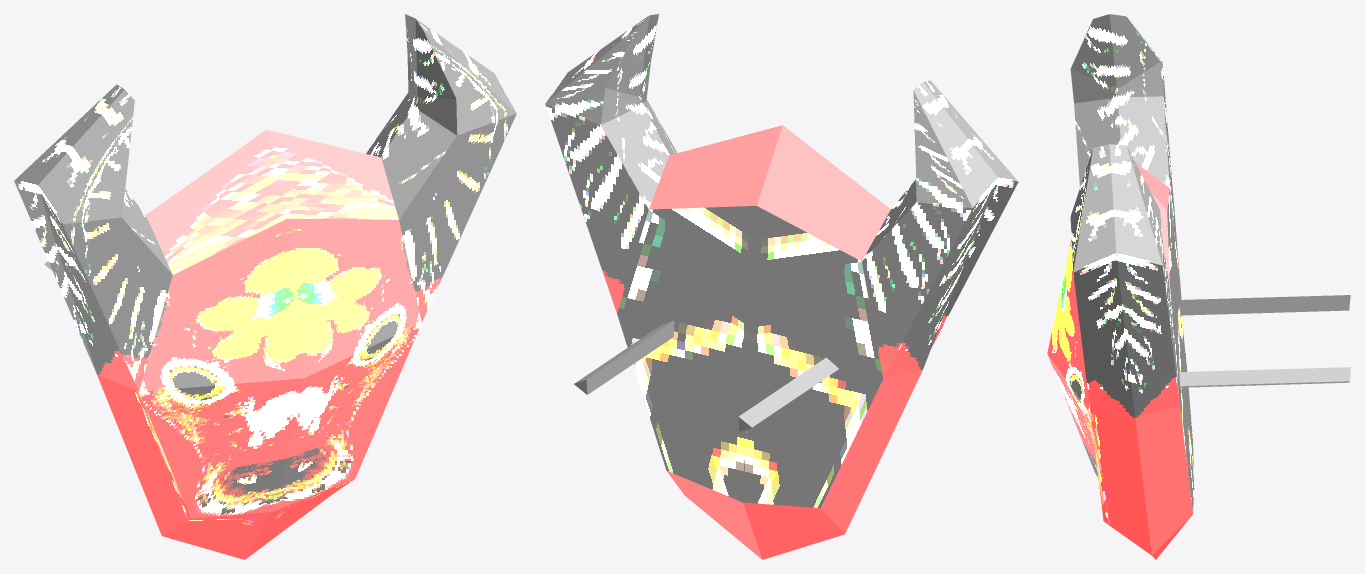
File: mask_bull.glb
3 renders of one model, left to right at view 1: azimuth 30°, elevation 25°; view 2: azimuth 150°, elevation 25°; view 3: azimuth 270°, elevation 25°, orthographic. The views are drawn at different scales.
Visible parts, largest first — view 1: mask_bull; view 2: mask_bull; view 3: mask_bull.
Boxes of the visible parts, x1,y1,x2,y2 form: mask_bull: (14, 14, 516, 559); mask_bull: (545, 14, 1018, 559); mask_bull: (1047, 14, 1350, 559).
Size of the model in its own units: 1.09 by 1.19 by 0.6813.
